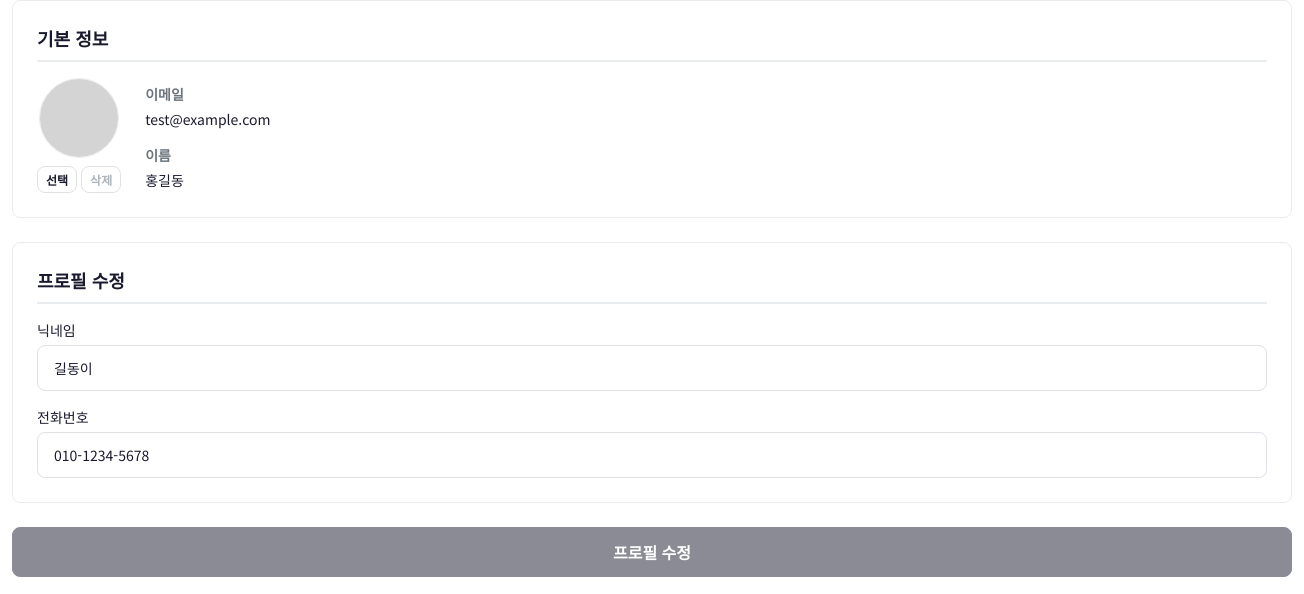
Scenario: ProfileForm › API 에러 시 에러 메시지를 표시한다
Replace the text in the field labelled "닉네임" with "새닉네임" at (652,368), box [37,345,1267,391]
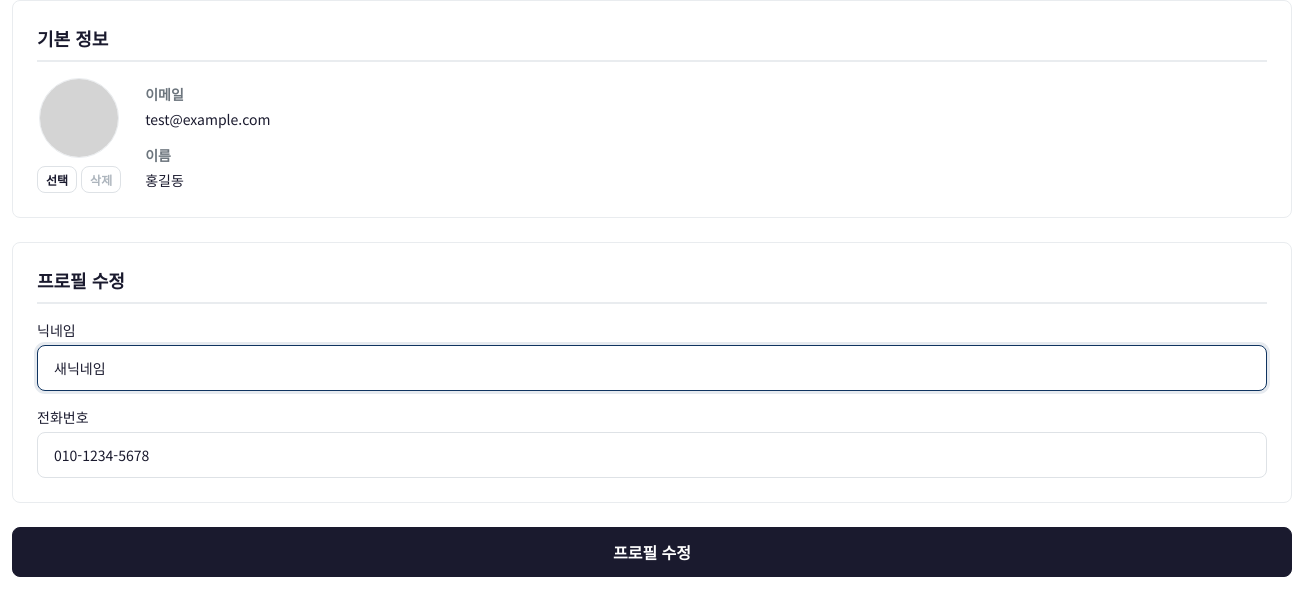
Click the button "프로필 수정" at (652,552), box [12,527,1292,577]
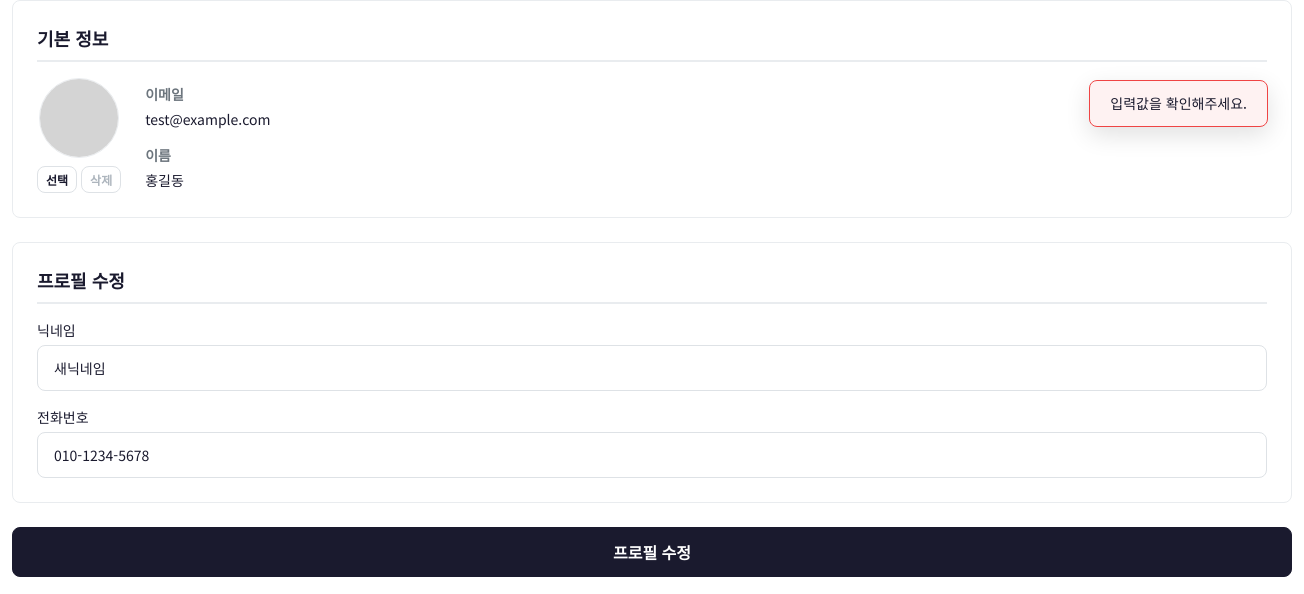
Check: the text "입력값을 확인해주세요." is shown, box [1089,80,1268,127]
